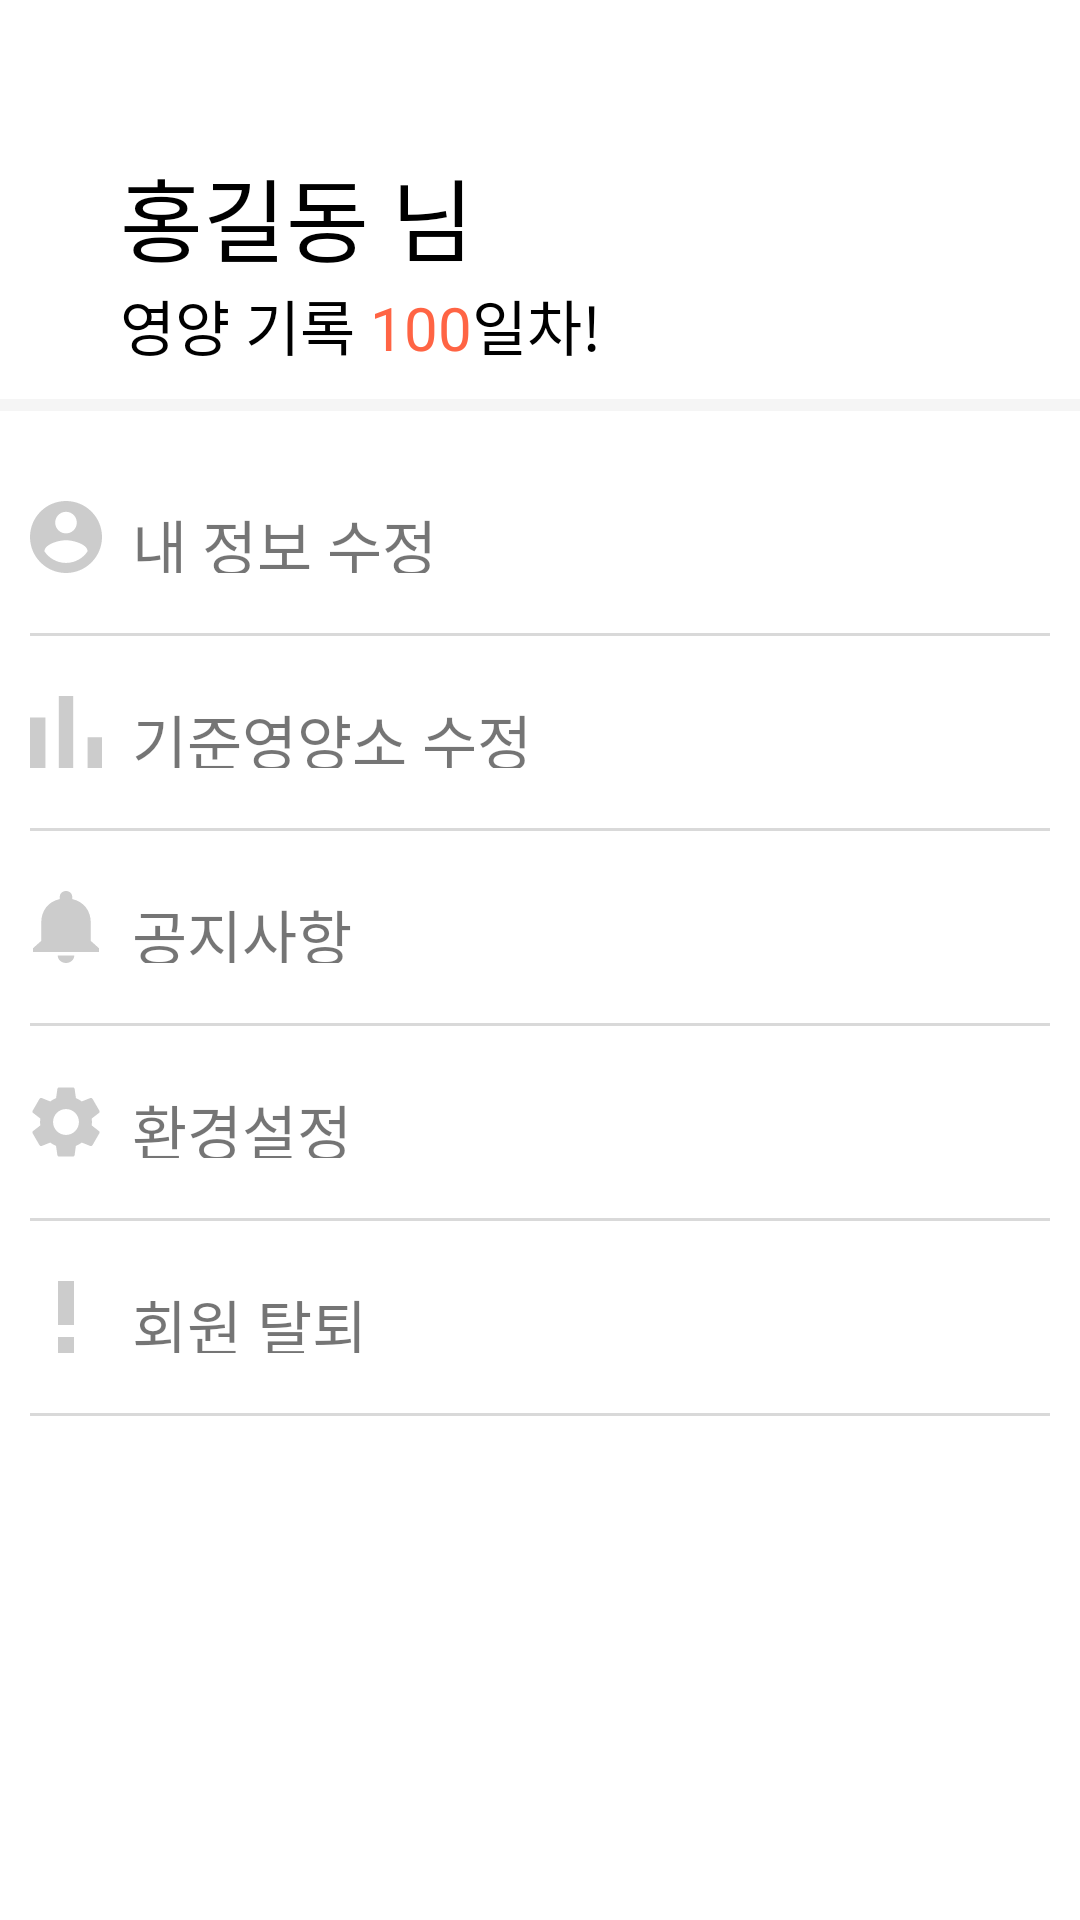

Locate icon controls on the screen. Image size 1080w x 1920h, boxes as (x1, y1, x2, y2).
bell: (33, 891, 99, 963)
edit profile: (30, 501, 102, 573)
setting: (32, 1087, 100, 1157)
statistic: (30, 696, 102, 768)
